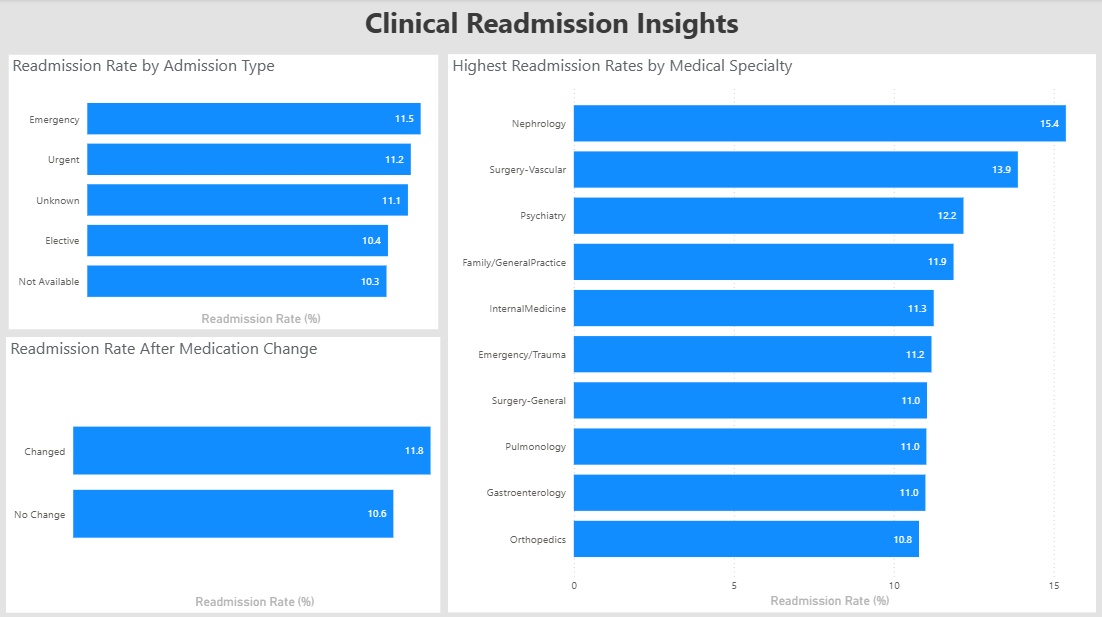

Layout of this report page (visuals, bound fields, positions):
{"tool":"powerbi","page":{"name":"Clinical Drivers of Readmission","canvas":[1280,720],"ordinal":2},"visuals":[{"type":"clusteredBarChart","title":"Readmission Rate by Admission Type","fields":{"Category":["vw_readmission_by_admission_type.admission_type"],"Y":["Avg(vw_readmission_by_admission_type.readmission_rate_pct)"]},"box":[9,64,500,320],"z":0},{"type":"clusteredBarChart","title":"Highest Readmission Rates by Medical Specialty","fields":{"Category":["vw_top10_specialty_readmission.medical_specialty"],"Y":["Avg(vw_top10_specialty_readmission.readmission_rate_pct)"]},"box":[520,64,752,648],"z":1000},{"type":"clusteredBarChart","title":"Readmission Rate After Medication Change","fields":{"Category":["vw_readmission_by_med_change.medication_change"],"Y":["Avg(vw_readmission_by_med_change.readmission_rate_pct)"]},"box":[7,392,504,320],"z":2000},{"type":"textbox","box":[8,0,1264,64],"z":3000}]}

Visuals, with their boxes in screenshot pixels (x1, y1, x2, y2), scaled from the page's 1280x720 canvas onto the 1102x617 screenshot:
"Readmission Rate by Admission Type" clusteredBarChart: select_region(8, 55, 438, 329)
"Highest Readmission Rates by Medical Specialty" clusteredBarChart: select_region(448, 55, 1095, 610)
"Readmission Rate After Medication Change" clusteredBarChart: select_region(6, 336, 440, 610)
textbox: select_region(7, 0, 1095, 55)
